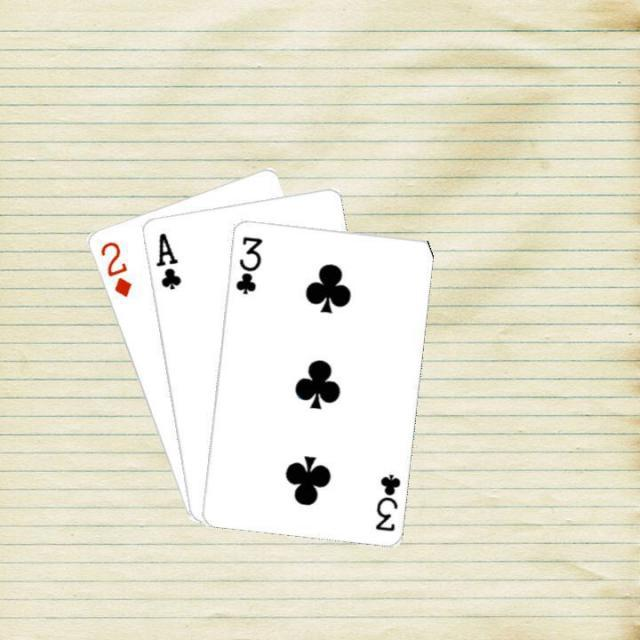2D: (96, 237, 134, 299)
3C: (231, 232, 264, 296), (372, 470, 403, 533)
AC: (151, 229, 182, 291)
